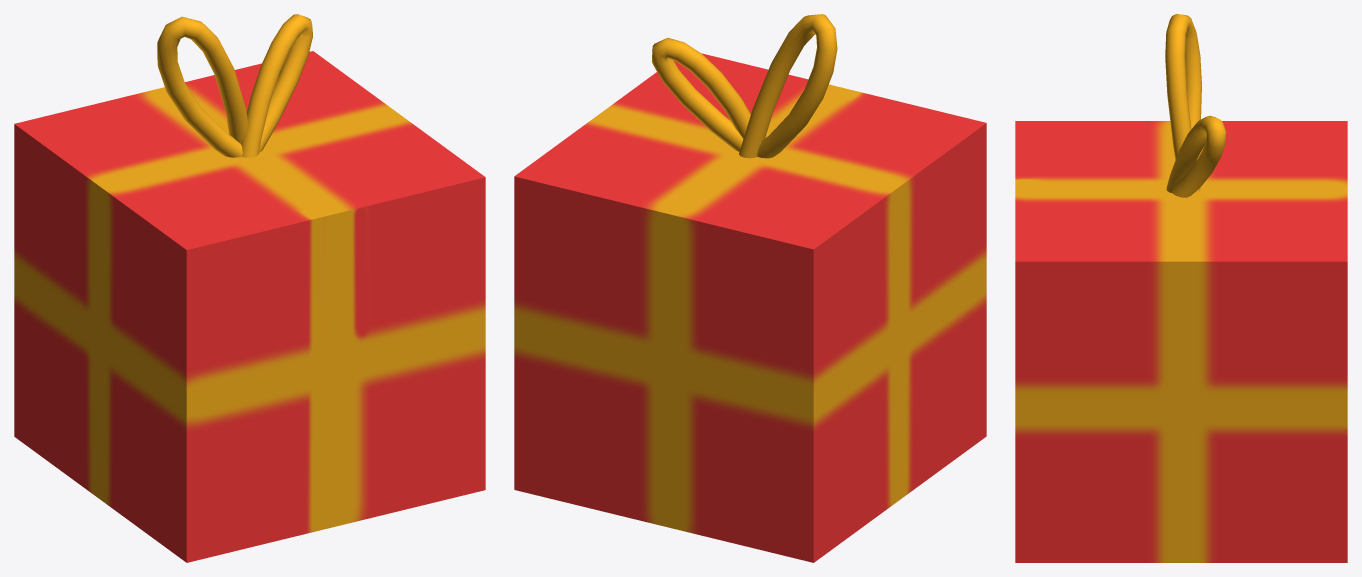
File: present.glb
3 views of the same model, side by side, from view 1: azimuth 30°, elevation 25°; view 2: azimuth 150°, elevation 25°; view 3: azimuth 270°, elevation 25° (orthographic). The views are drawn at different scales.
Visible parts, largest first — view 1: BezierCurve; view 2: BezierCurve; view 3: BezierCurve.
Boxes of the visible parts, x1,y1,x2,y2 form: BezierCurve: (14,14,485,562); BezierCurve: (514,14,986,562); BezierCurve: (1015,14,1347,562).
Bounding box in the file's own units: 1 × 1.48 × 1.
2 materials, 2 textured.
